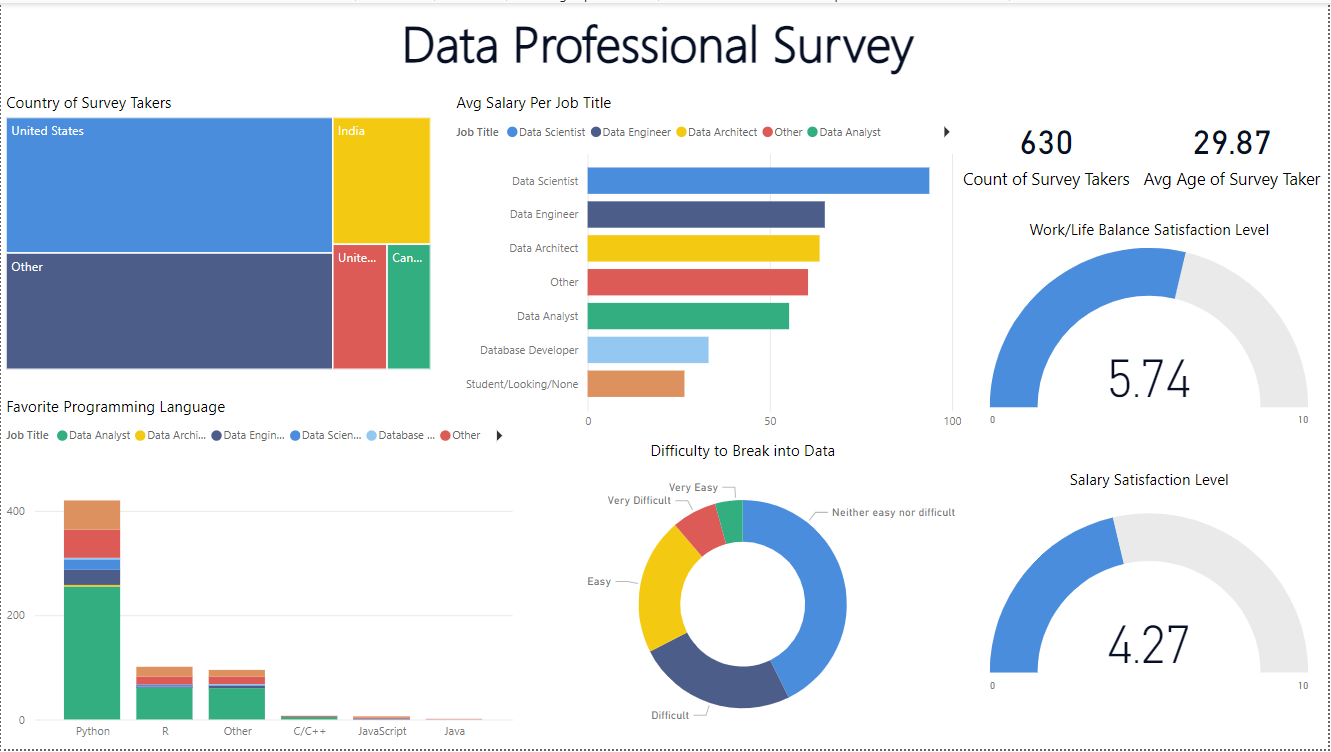

Layout of this report page (visuals, bound fields, positions):
{"tool":"powerbi","page":{"name":"Page 1","canvas":[1280,720],"ordinal":0},"visuals":[{"type":"textbox","box":[0,0,1280.3,86.4],"z":0},{"type":"card","fields":{"Values":["Count(Data Professional Survey.Unique ID)"]},"box":[922.5,86.1,172.1,114.3],"z":1000},{"type":"card","fields":{"Values":["Avg(Data Professional Survey.Q10 - Current Age)"]},"box":[1094.7,86.1,185.6,114.3],"z":2000},{"type":"barChart","title":"Avg Salary Per Job Title","fields":{"Category":["Data Professional Survey.Q1 - Which Title Best Fits your Current Role?.1"],"Y":["Avg(Data Professional Survey.Average Salary)"],"Series":["Data Professional Survey.Q1 - Which Title Best Fits your Current Role?.1"]},"box":[434.4,86.1,497.6,334.9],"z":3000},{"type":"columnChart","title":"Favorite Programming Language","fields":{"Category":["Data Professional Survey.Q5 - Favorite Programming Language.1"],"Y":["CountNonNull(Data Professional Survey.Unique ID)"],"Series":["Data Professional Survey.Q1 - Which Title Best Fits your Current Role?.1"]},"box":[0,379.2,454.6,340.2],"z":4000},{"type":"treemap","title":"Country of Survey Takers","fields":{"Group":["Data Professional Survey.Q11 - Which Country do you live in?.1"],"Values":["CountNonNull(Data Professional Survey.Q11 - Which Country do you live in?.1)"]},"box":[0,86.1,419.6,273],"z":5000},{"type":"gauge","title":"Work/Life Balance Satisfaction Level","fields":{"Y":["Avg(Data Professional Survey.Q6 - How Happy are you in your Current Position with the following? (Work/Life Balance))"],"MinValue":["Min(Data Professional Survey.Q6 - How Happy are you in your Current Position with the following? (Work/Life Balance))"],"MaxValue":["Max(Data Professional Survey.Q6 - How Happy are you in your Current Position with the following? (Work/Life Balance))1"]},"box":[1008.6,244.8,271.7,213.8],"z":6000},{"type":"gauge","title":"Salary Satisfaction Level","fields":{"Y":["Avg(Data Professional Survey.Q6 - How Happy are you in your Current Position with the following? (Salary))"],"MinValue":["Min(Data Professional Survey.Q6 - How Happy are you in your Current Position with the following? (Salary))"],"MaxValue":["Max(Data Professional Survey.Q6 - How Happy are you in your Current Position with the following? (Salary))"]},"box":[1008.6,476.1,271.7,243.4],"z":7000},{"type":"donutChart","title":"Difficulty to Break into Data","fields":{"Category":["Data Professional Survey.Q7 - How difficult was it for you to break into Data?"],"Y":["CountNonNull(Data Professional Survey.Q7 - How difficult was it for you to break into Data?)"]},"box":[474.7,420.9,533.9,298.6],"z":8000}]}

Visuals, with their boxes in screenshot pixels (x1, y1, x2, y2), scaled from the page's 1280x720 canvas onto the 1331x752 screenshot:
textbox: x1=0, y1=0, x2=1330, y2=90
card - Count(Data Professional Survey.Unique ID): x1=959, y1=90, x2=1138, y2=209
card - Avg(Data Professional Survey.Q10 - Current Age): x1=1138, y1=90, x2=1330, y2=209
"Avg Salary Per Job Title" barChart: x1=452, y1=90, x2=969, y2=440
"Favorite Programming Language" columnChart: x1=0, y1=396, x2=473, y2=751
"Country of Survey Takers" treemap: x1=0, y1=90, x2=436, y2=375
"Work/Life Balance Satisfaction Level" gauge: x1=1049, y1=256, x2=1330, y2=479
"Salary Satisfaction Level" gauge: x1=1049, y1=497, x2=1330, y2=751
"Difficulty to Break into Data" donutChart: x1=494, y1=440, x2=1049, y2=751
